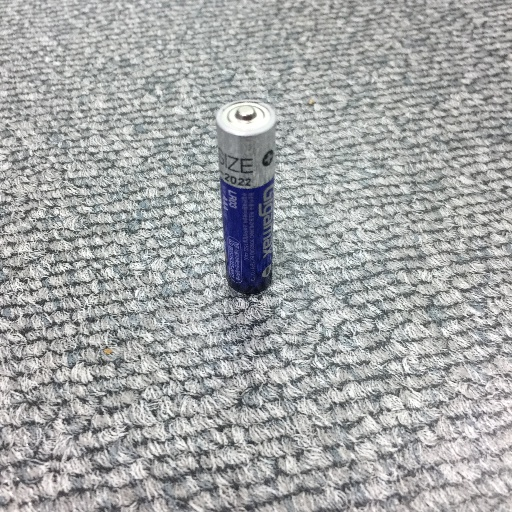Battery_0: (213, 95, 283, 304)
